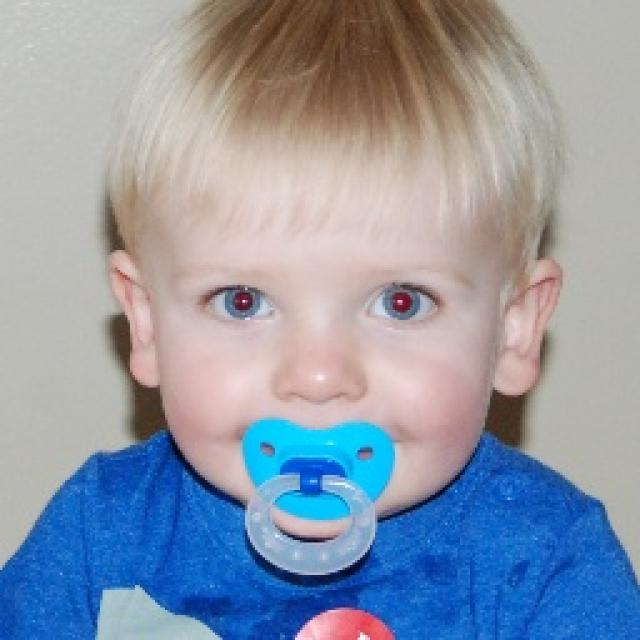earlobe: (492, 259, 564, 398), (108, 250, 162, 388)
